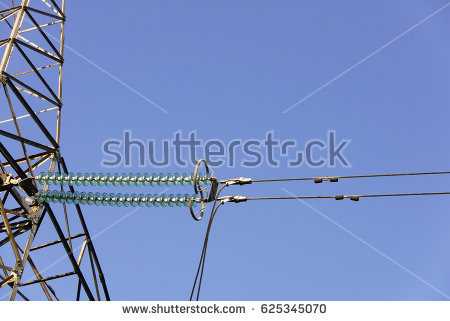isolator: (35, 171, 210, 206)
